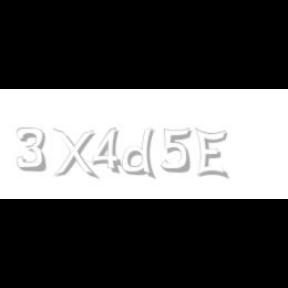3: (16, 128, 48, 172)
4: (91, 128, 122, 174)
5: (161, 128, 192, 174)
E: (196, 128, 228, 180)
X: (52, 128, 96, 180)
d: (122, 128, 160, 180)
